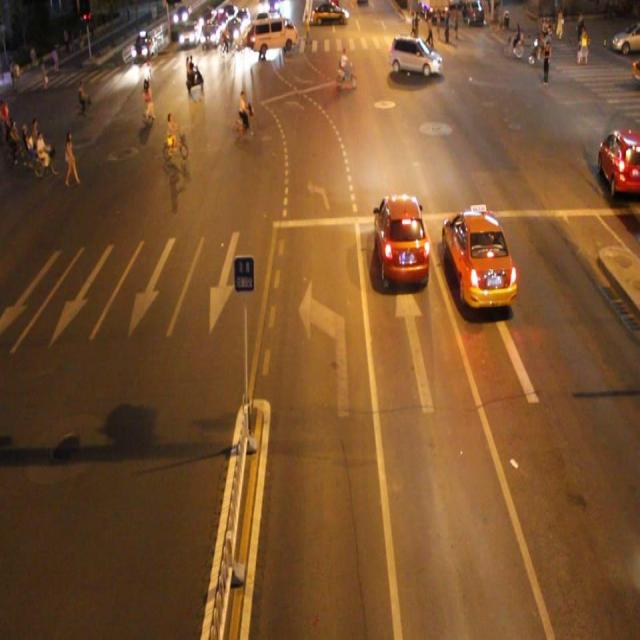car: (440, 204, 518, 308), (373, 192, 429, 288)
truck: (389, 32, 441, 77), (250, 15, 296, 54)
